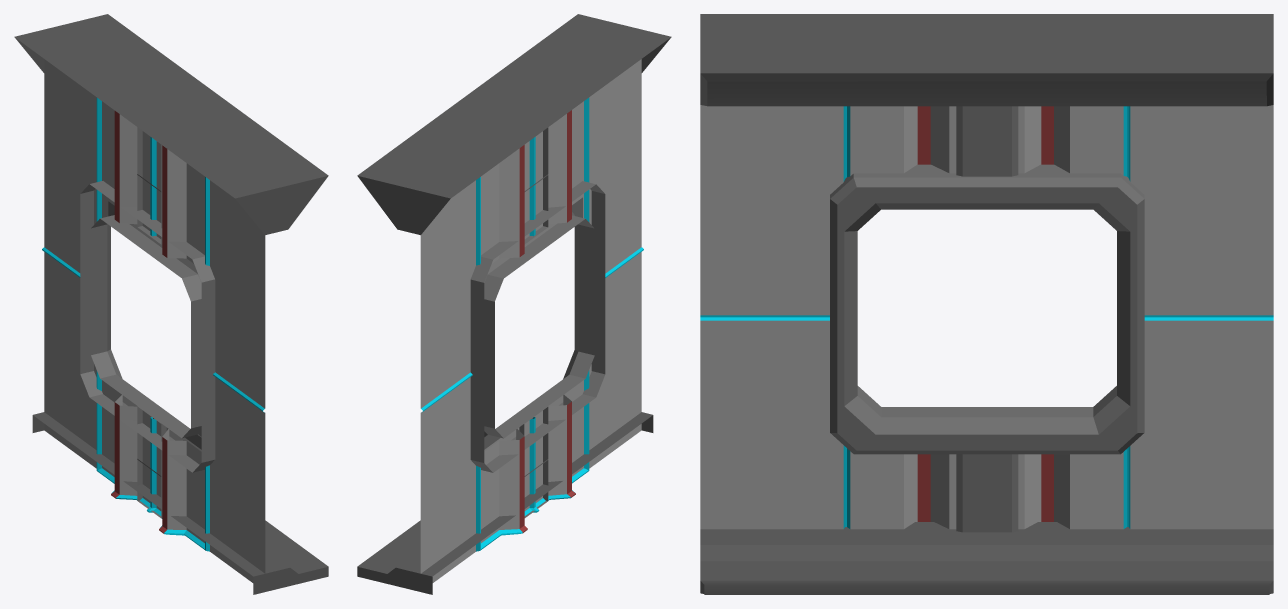
The model's file is SM_Module_02.fbx.
3 renders of one model, left to right at view 1: azimuth 30°, elevation 25°; view 2: azimuth 150°, elevation 25°; view 3: azimuth 270°, elevation 25°, orthographic. The views are drawn at different scales.
Visible parts, largest first — view 1: SM_Module_02; view 2: SM_Module_02; view 3: SM_Module_02.
Part boxes in pixels (bbox=[...]): SM_Module_02: bbox=[14, 14, 328, 594]; SM_Module_02: bbox=[357, 14, 671, 594]; SM_Module_02: bbox=[700, 14, 1273, 594].
Size of the model in its own units: 149 by 601 by 599.
